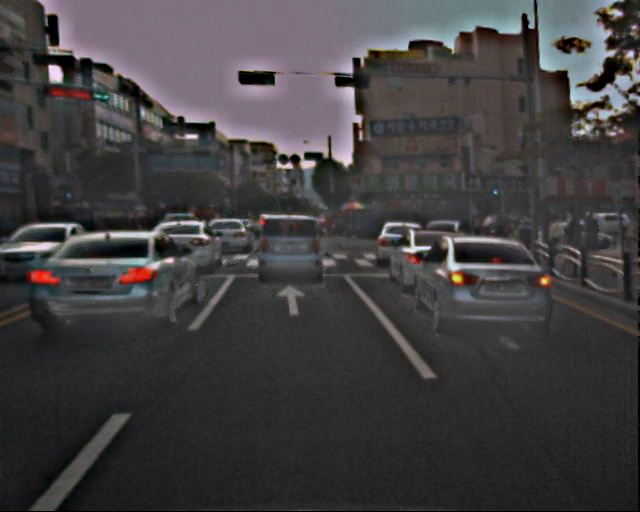person: (556, 204, 585, 275), (543, 212, 566, 269)
